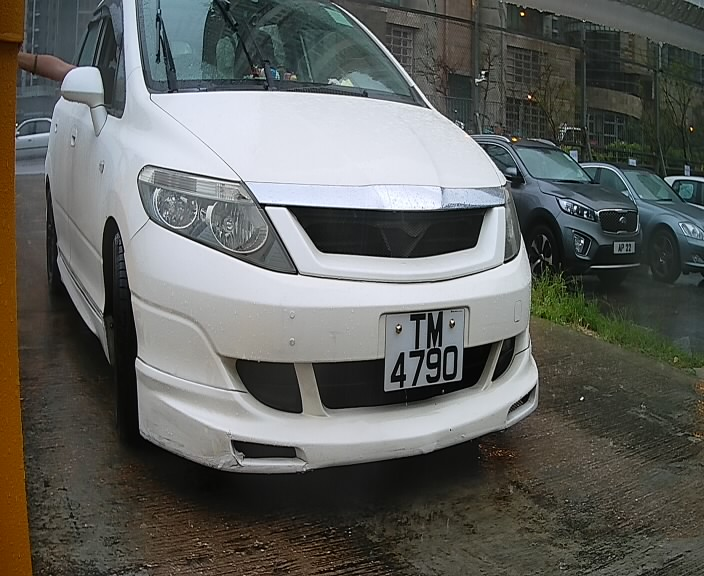License Plate: (377, 298, 479, 400)
